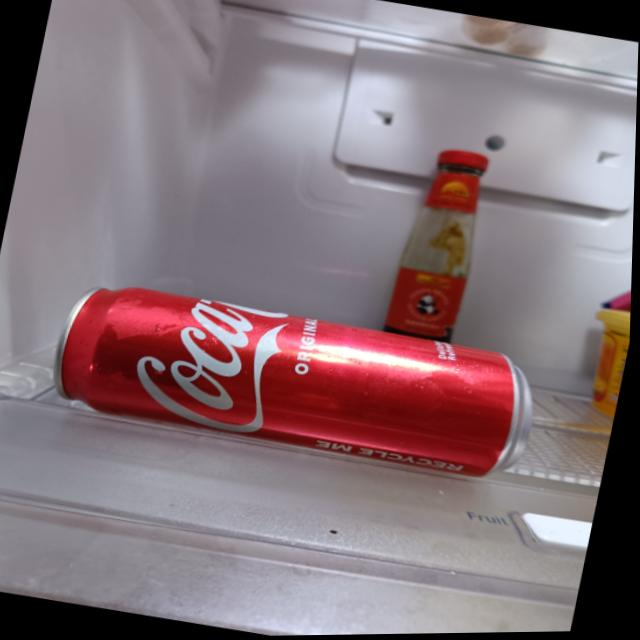coke: (52, 268, 547, 495)
